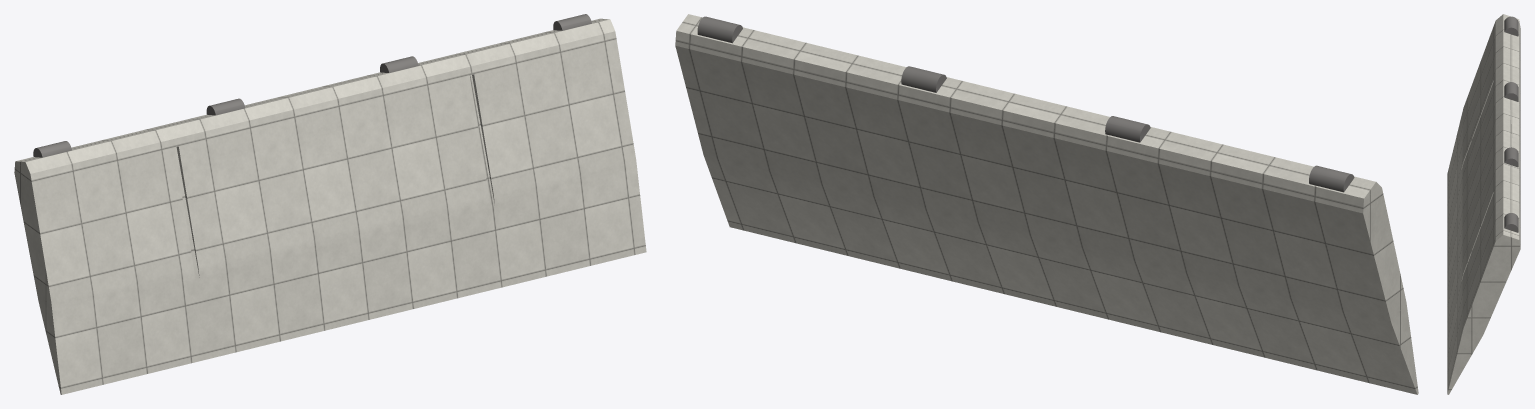
Rendered from ax_aero_23_cse_elevon_m_defl_neg.glb.
3 views of the same model, side by side, from view 1: azimuth 30°, elevation 25°; view 2: azimuth 150°, elevation 25°; view 3: azimuth 270°, elevation 25° (orthographic). The views are drawn at different scales.
Parts seen in each view (by area): view 1: surface, hinge_fittings; view 2: surface, hinge_fittings; view 3: surface, hinge_fittings.
Boxes of the visible parts, x1,y1,x2,y2 form: surface: [14, 18, 646, 394]; hinge_fittings: [33, 14, 591, 157]; surface: [675, 14, 1418, 394]; hinge_fittings: [697, 16, 1354, 192]; surface: [1447, 14, 1520, 394]; hinge_fittings: [1504, 16, 1518, 232].
Bounding box in the file's own units: 1.98 × 0.6868 × 0.2772.
2 materials, 2 textured.
